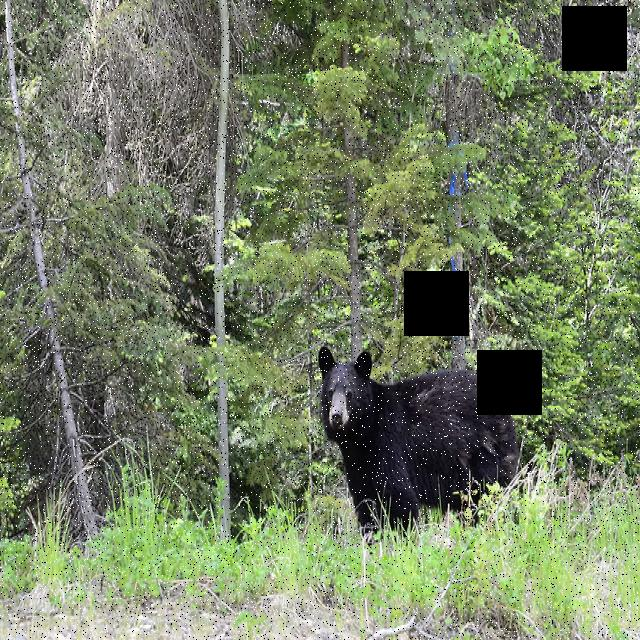Bear: (312, 335, 520, 519)
